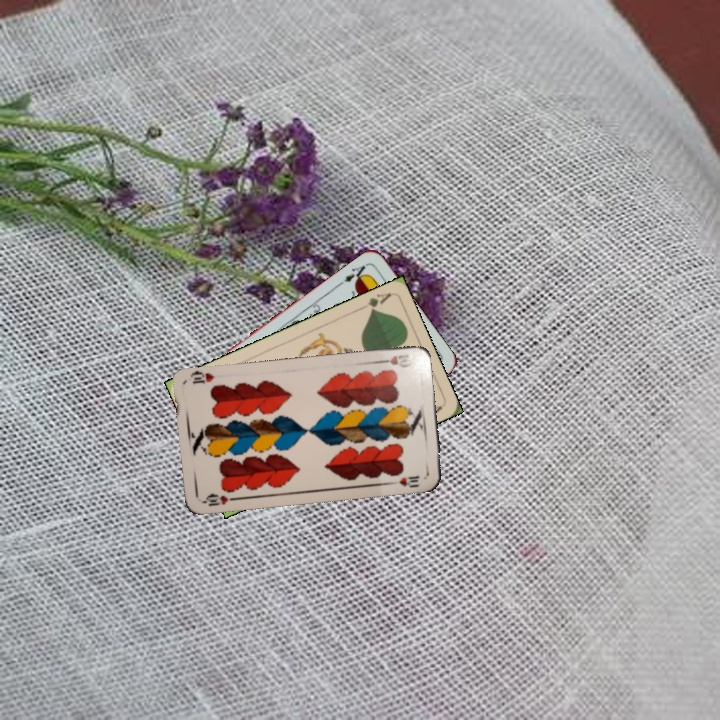EA: (340, 261, 370, 286)
GA: (355, 289, 393, 315)
H10: (199, 489, 240, 509), (375, 350, 412, 368)
